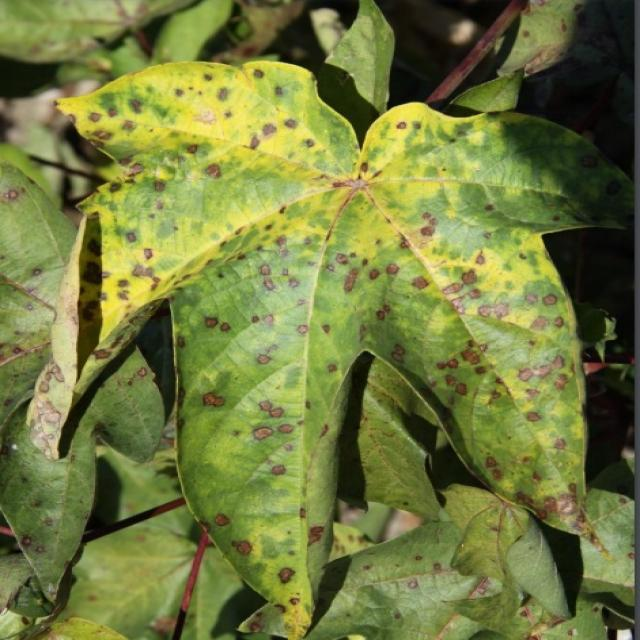Bacterial Blight: (139, 109, 544, 402)
